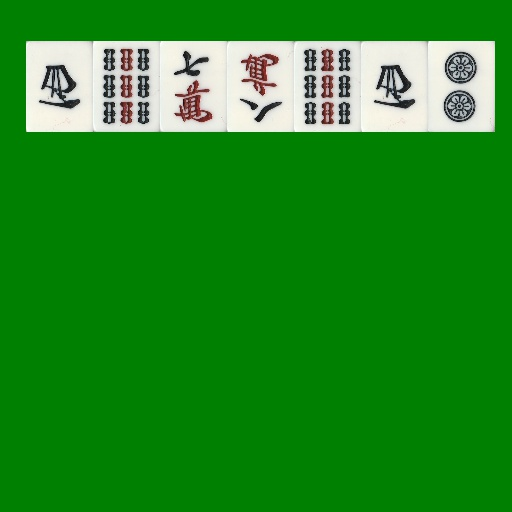2p: (428, 41, 495, 132)
7m: (160, 41, 227, 132)
8m: (227, 41, 294, 132)
9s: (93, 41, 160, 132), (294, 41, 361, 132)
west: (26, 41, 93, 132), (361, 41, 428, 132)
